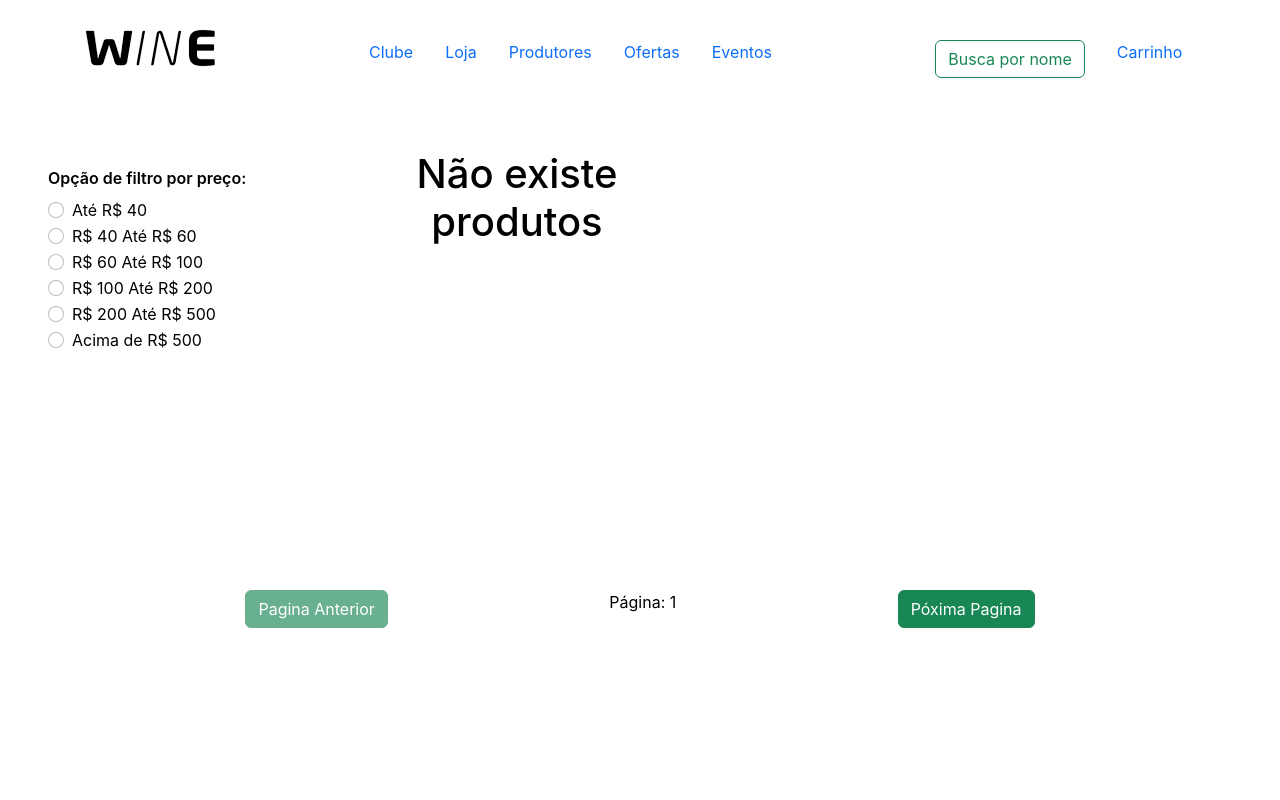
Test: Verificando o botão de busca › Verificando se aparece o input quando clicado no botão de busca por nome
Step 1. Click the button with test id "btn-busca-por-nome" → (1010, 59), box [935,40,1085,78]
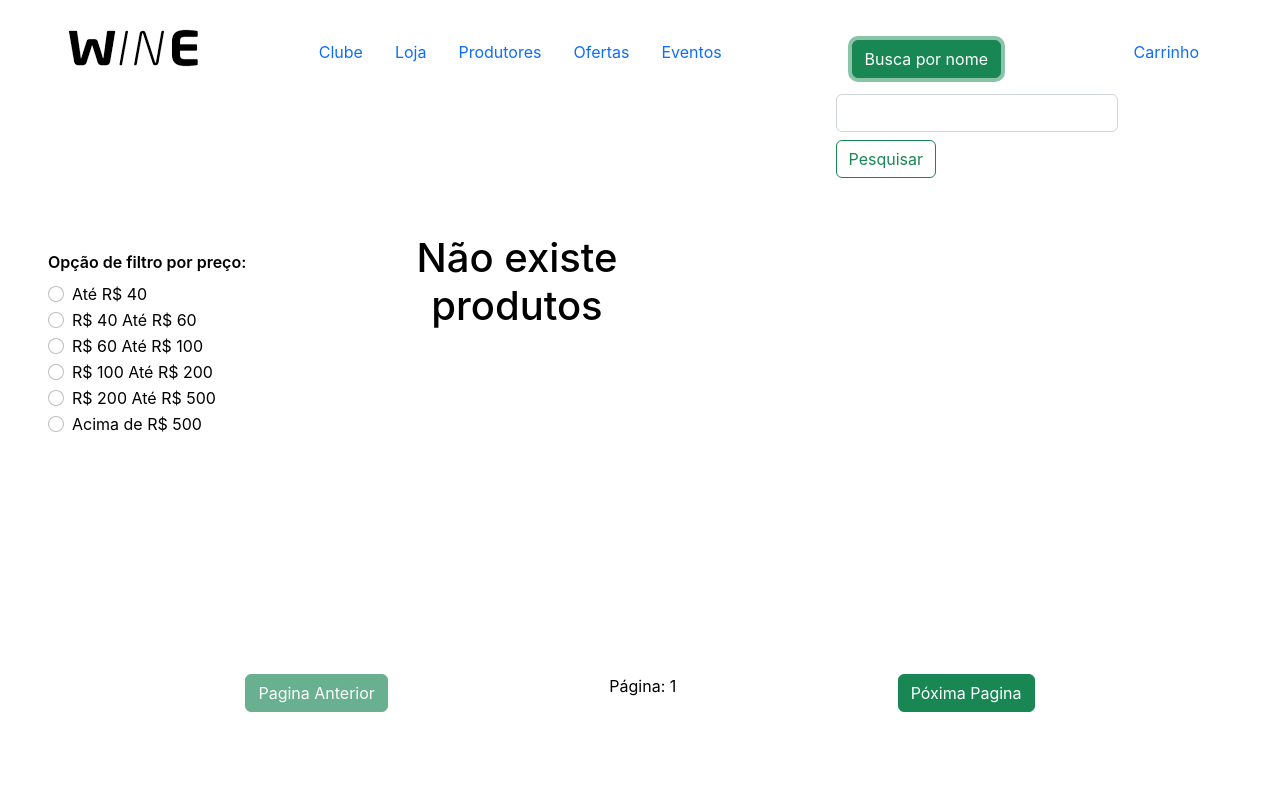
Expected: the field with test id "input-busca" is shown, [836,94,1118,132]
